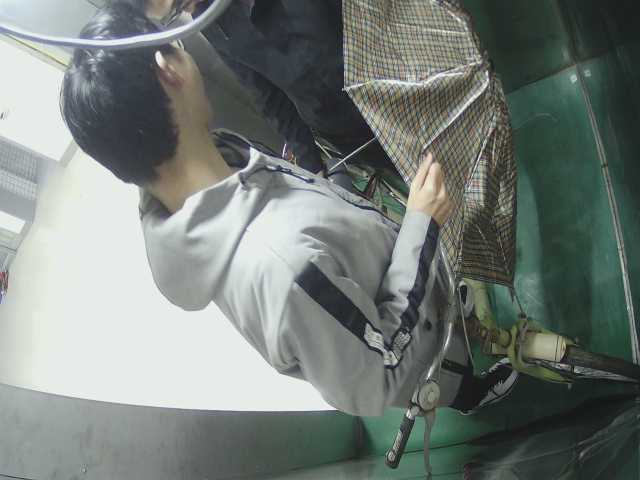bicycle: (387, 182, 635, 465)
person: (63, 21, 521, 420)
